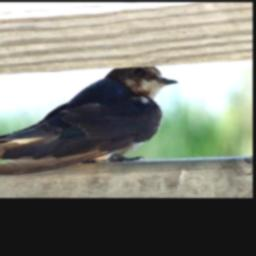Swallow: (0, 65, 179, 176)
